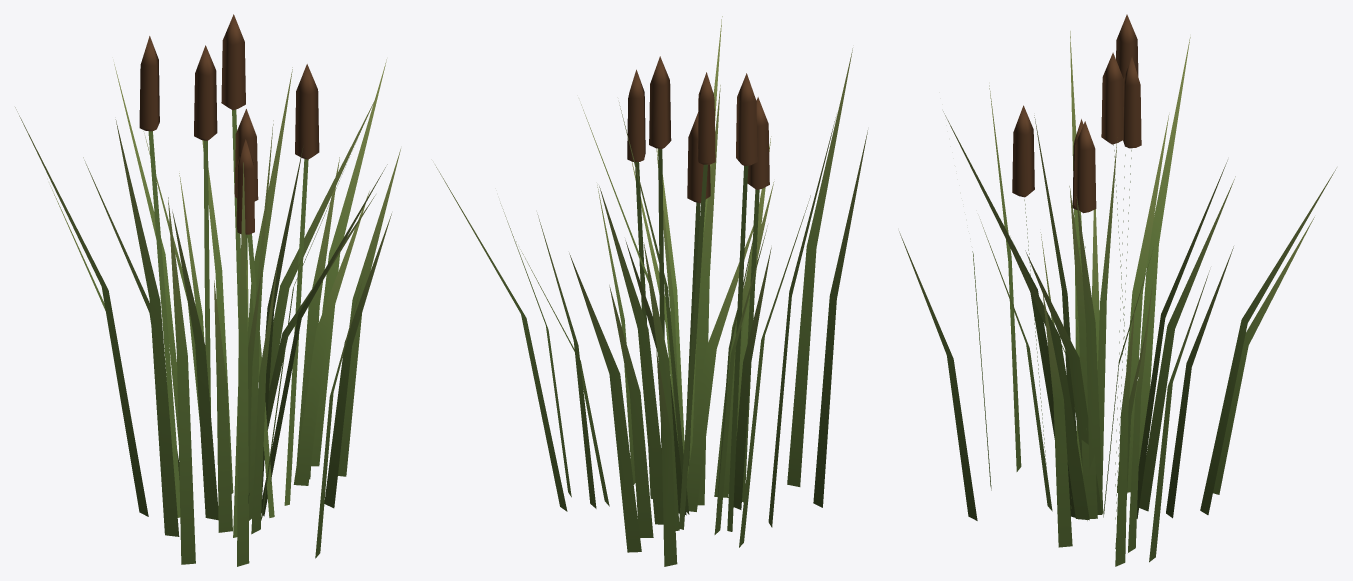
File: reed_clump.glb
3 views of the same model, side by side, from view 1: azimuth 30°, elevation 25°; view 2: azimuth 150°, elevation 25°; view 3: azimuth 270°, elevation 25° (orthographic). The views are drawn at different scales.
Visible parts, largest first — view 1: reed_clump; view 2: reed_clump; view 3: reed_clump.
Part boxes in pixels (x1,y1,x2,y2): reed_clump: [15, 14, 400, 566]; reed_clump: [435, 16, 867, 566]; reed_clump: [899, 14, 1336, 566].
Size of the model in its own units: 1.79 by 2.15 by 1.86.
